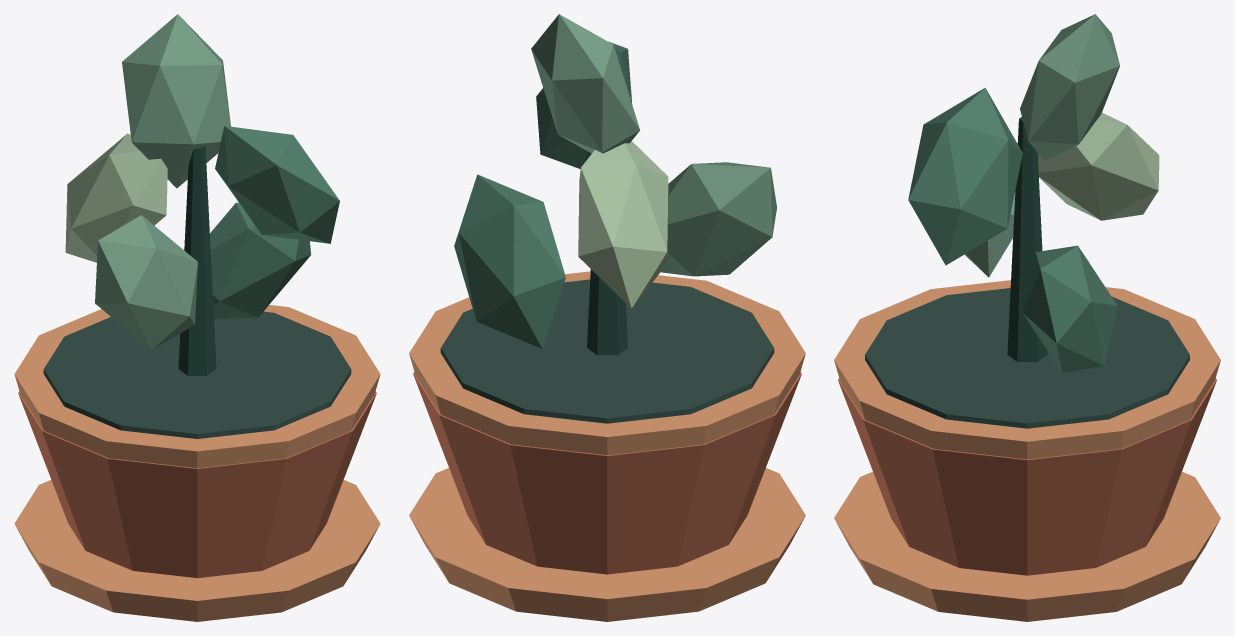
The model's file is plant.glb.
The picture shows the model from 3 angles, left to right: view 1: azimuth 30°, elevation 25°; view 2: azimuth 150°, elevation 25°; view 3: azimuth 270°, elevation 25°; orthographic projection. The views are drawn at different scales.
Parts seen in each view (by area): view 1: earth_light_Asset_plant, earth_Asset_plant, outline_Asset_plant, sage_Asset_plant, green_Asset_plant, light_Asset_plant, deep_Asset_plant; view 2: earth_light_Asset_plant, earth_Asset_plant, outline_Asset_plant, sage_Asset_plant, green_Asset_plant, light_Asset_plant, deep_Asset_plant; view 3: earth_light_Asset_plant, earth_Asset_plant, outline_Asset_plant, green_Asset_plant, sage_Asset_plant, light_Asset_plant, deep_Asset_plant.
Boxes of the visible parts, x1=… form: earth_light_Asset_plant: x1=14, y1=305, x2=380, y2=621; earth_Asset_plant: x1=18, y1=391, x2=376, y2=578; outline_Asset_plant: x1=43, y1=311, x2=351, y2=438; sage_Asset_plant: x1=95, y1=14, x2=230, y2=350; green_Asset_plant: x1=210, y1=126, x2=339, y2=319; light_Asset_plant: x1=65, y1=133, x2=167, y2=262; deep_Asset_plant: x1=178, y1=146, x2=216, y2=375; earth_light_Asset_plant: x1=409, y1=271, x2=805, y2=621; earth_Asset_plant: x1=413, y1=372, x2=801, y2=574; outline_Asset_plant: x1=440, y1=279, x2=774, y2=423; sage_Asset_plant: x1=531, y1=14, x2=776, y2=276; green_Asset_plant: x1=454, y1=41, x2=631, y2=348; light_Asset_plant: x1=578, y1=141, x2=668, y2=308; deep_Asset_plant: x1=587, y1=269, x2=627, y2=355; earth_light_Asset_plant: x1=834, y1=280, x2=1220, y2=621; earth_Asset_plant: x1=838, y1=378, x2=1216, y2=575; outline_Asset_plant: x1=865, y1=288, x2=1189, y2=428; green_Asset_plant: x1=908, y1=87, x2=1117, y2=372; sage_Asset_plant: x1=964, y1=14, x2=1119, y2=277; light_Asset_plant: x1=1037, y1=112, x2=1159, y2=220; deep_Asset_plant: x1=1007, y1=117, x2=1047, y2=361.
Size of the model in its own units: 1 by 1.54 by 1.
